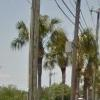Palm tree: (21, 18, 66, 82)
